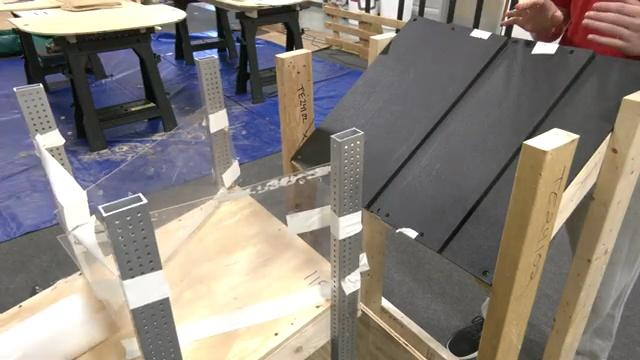CORAL: (0, 294, 110, 360)
